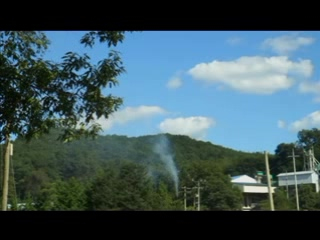smoke: (136, 134, 182, 199)
